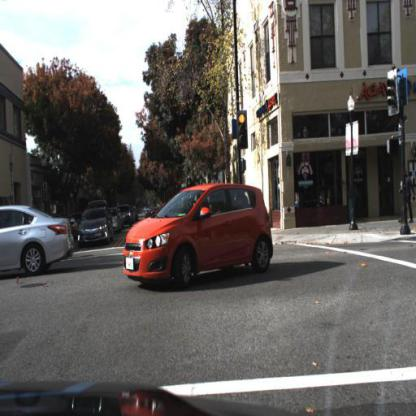car: (122, 184, 275, 292), (76, 207, 114, 251)
pedestrian: (399, 169, 416, 224)
trafficLight: (237, 112, 249, 152)
